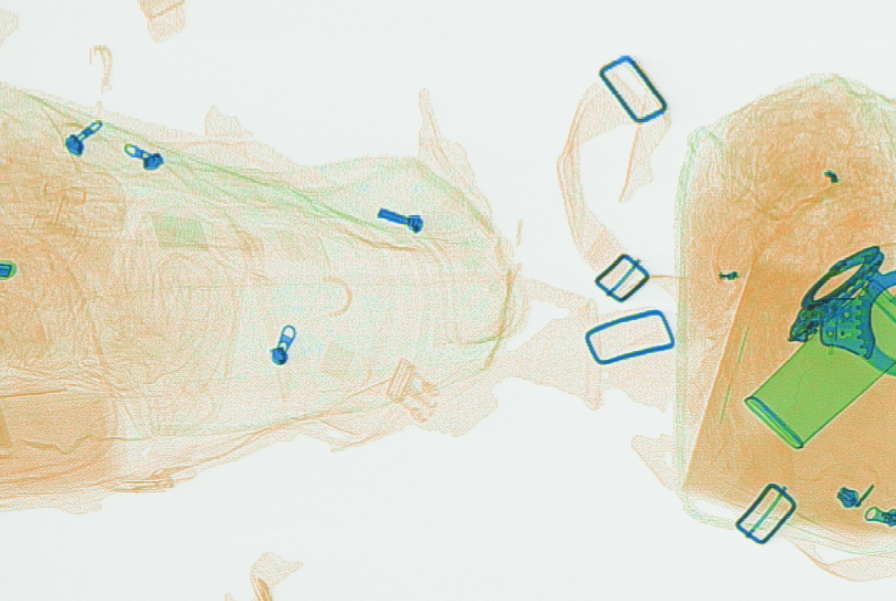handcuffs: (785, 244, 894, 377)
zippooil: (742, 276, 892, 449)
